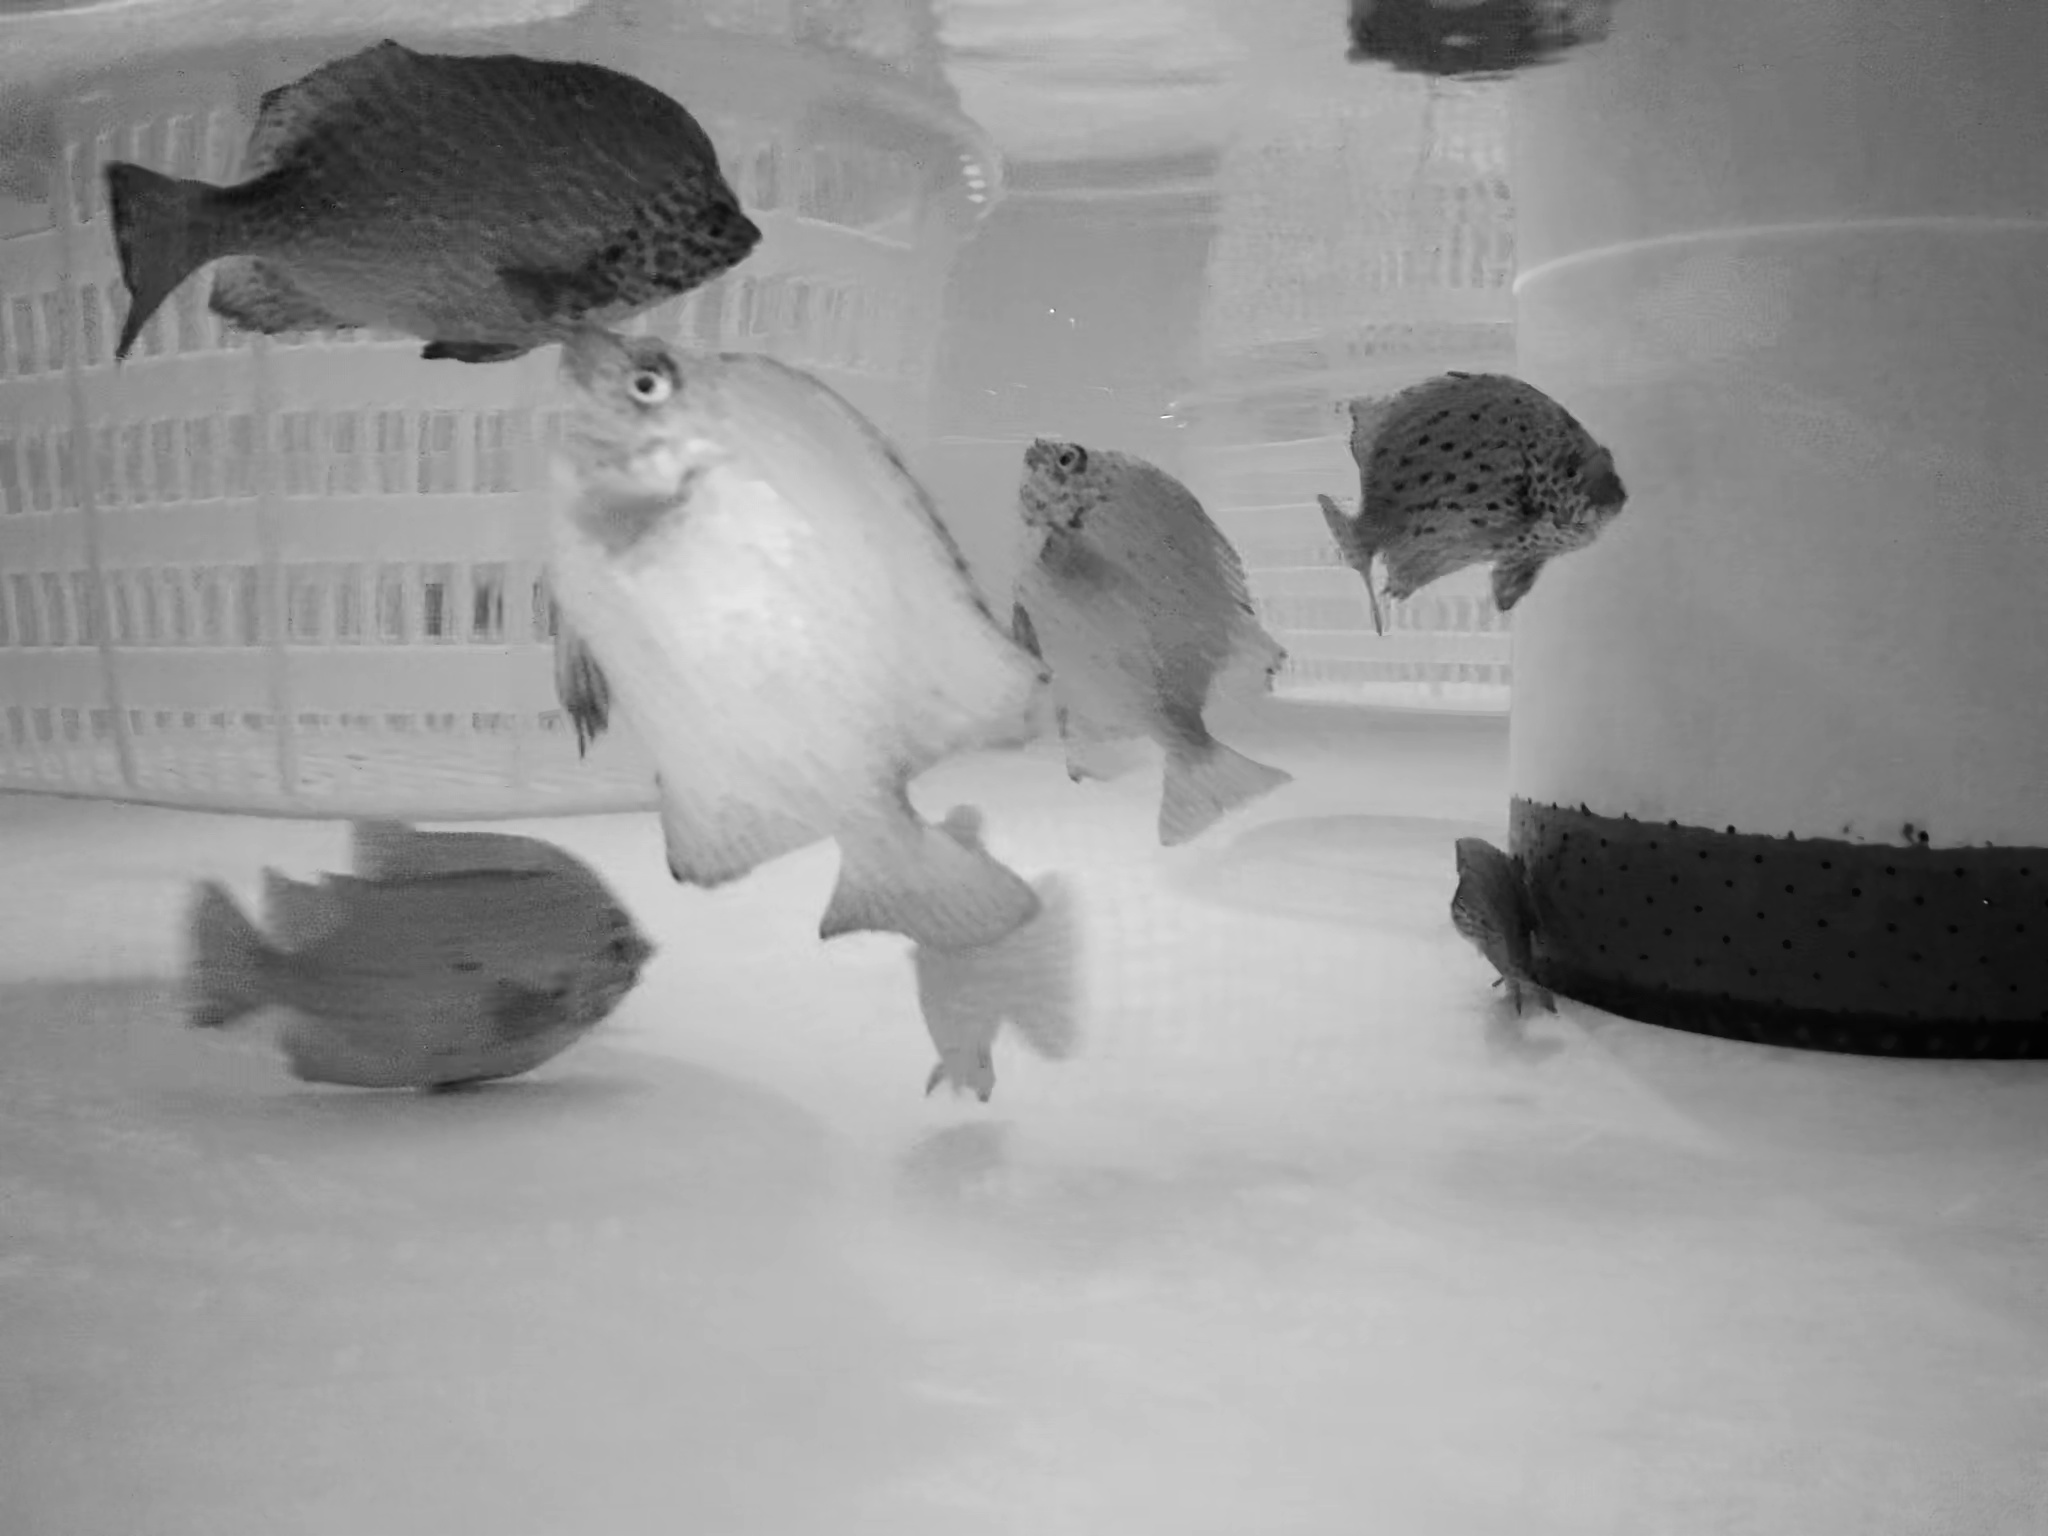fish: (529, 324, 1040, 954), (82, 42, 760, 347), (163, 818, 647, 1107), (1016, 437, 1301, 836), (1334, 374, 1625, 624), (908, 816, 1071, 1120), (1450, 842, 1559, 1010)
